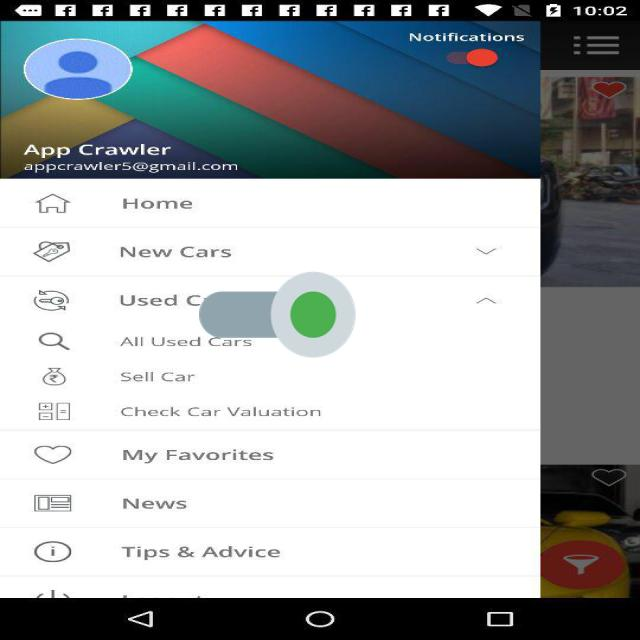social proof: (199, 235, 356, 394)
